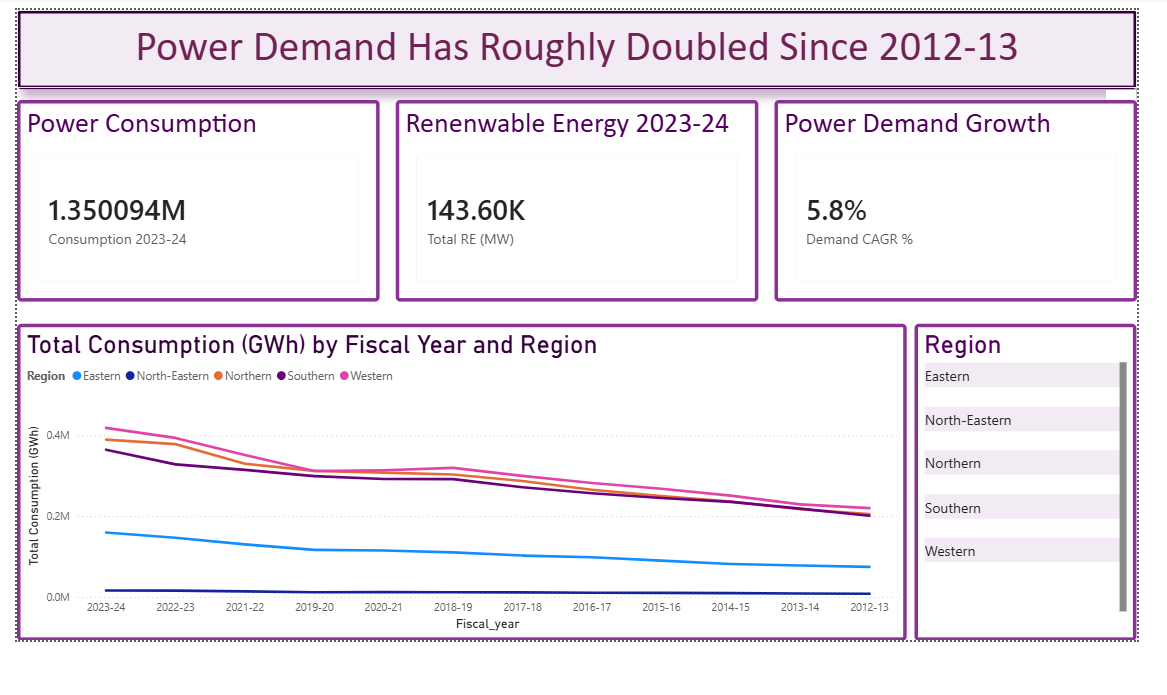

The dashboard page shown, as its layout file describes it:
{"tool":"powerbi","page":{"name":"National Overview","canvas":[1280,720],"ordinal":0},"visuals":[{"type":"cardVisual","title":"Power Consumption ","fields":{"Data":["fact_consumption.Consumption 2023-24"]},"box":[0,102.9,414.4,230.5],"z":0},{"type":"textbox","box":[0,0,1280.3,90.6],"z":1000},{"type":"cardVisual","title":"Renenwable Energy 2023-24","fields":{"Data":["fact_consumption.Total RE (MW)"]},"box":[432.2,102.9,414.4,230.5],"z":2000},{"type":"cardVisual","title":"Power Demand Growth","fields":{"Data":["fact_consumption.Demand CAGR %"]},"box":[865.9,102.9,414.4,230.5],"z":3000},{"type":"lineChart","title":"Total Consumption (GWh) by Fiscal Year and Region","fields":{"Category":["fact_consumption.fiscal_year"],"Y":["fact_consumption.Total Consumption (GWh)"],"Series":["dim_state.region"]},"box":[0,358.1,1016.8,362.3],"z":4000},{"type":"listSlicer","title":"Region","fields":{"Values":["dim_state.region"]},"box":[1026.4,358.1,253.9,362.3],"z":5000}]}

Visuals, with their boxes in screenshot pixels (x1, y1, x2, y2):
"Power Consumption " cardVisual: x1=18 y1=101 x2=378 y2=301
textbox: x1=18 y1=12 x2=1129 y2=91
"Renenwable Energy 2023-24" cardVisual: x1=393 y1=101 x2=752 y2=301
"Power Demand Growth" cardVisual: x1=769 y1=101 x2=1129 y2=301
"Total Consumption (GWh) by Fiscal Year and Region" lineChart: x1=18 y1=323 x2=900 y2=637
"Region" listSlicer: x1=908 y1=323 x2=1129 y2=637
